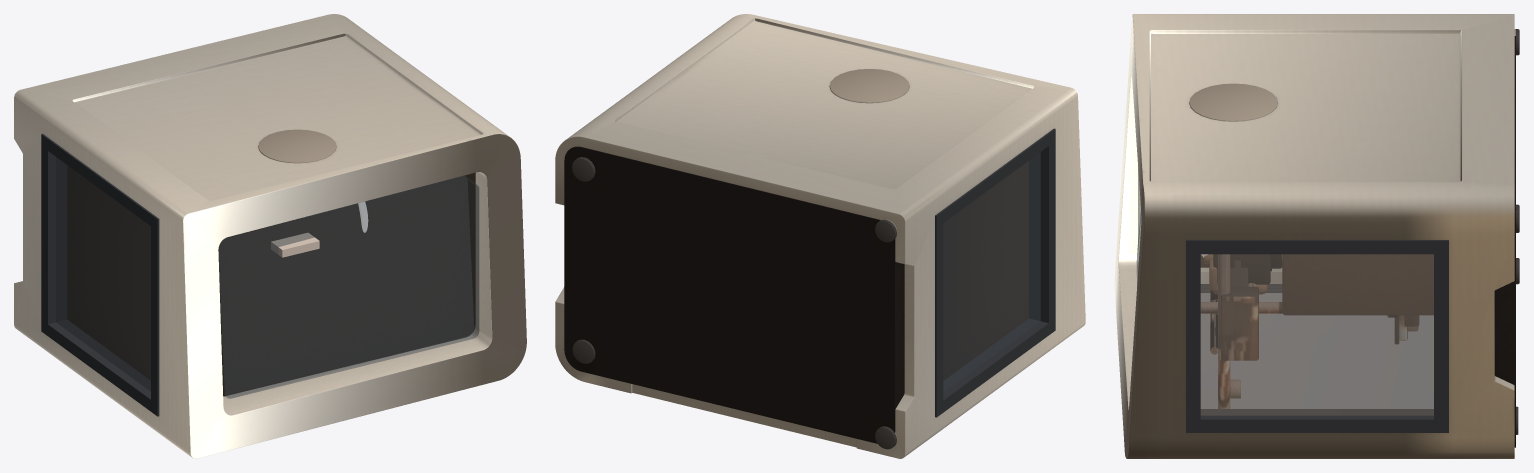
The model's file is deltrol_p2s_explorer_v36.glb.
The picture shows the model from 3 angles, left to right: view 1: azimuth 30°, elevation 25°; view 2: azimuth 150°, elevation 25°; view 3: azimuth 270°, elevation 25°; orthographic projection. The views are drawn at different scales.
Visible parts, largest first — view 1: unibody_shell, top_roof_glass, interior_ceiling_liner, left_glass_window, interior_left_back_baffle, left_window_gasket, rear_exhaust_shroud, upper_steel_rail_bar; view 2: unibody_shell, chassis_recessed_plinth, left_glass_window, interior_left_back_baffle, left_window_gasket, rear_exhaust_shroud; view 3: unibody_shell, right_glass_window, right_glass_sheen, front_glass_door, right_window_gasket, interior_rear_electronics_box, x_gantry_crossbeam, chassis_recessed_plinth, rear_exhaust_shroud, x_guide_front, toolhead_chassis.
Boxes of the visible parts, <box> form: unibody_shell: <box>14,14,526,458</box>; top_roof_glass: <box>218,176,479,398</box>; interior_ceiling_liner: <box>218,172,475,396</box>; left_glass_window: <box>56,157,150,391</box>; interior_left_back_baffle: <box>67,165,150,380</box>; left_window_gasket: <box>41,133,159,416</box>; rear_exhaust_shroud: <box>258,129,336,163</box>; upper_steel_rail_bar: <box>271,233,319,257</box>; unibody_shell: <box>555,14,1085,458</box>; chassis_recessed_plinth: <box>564,146,904,443</box>; left_glass_window: <box>943,152,1040,391</box>; interior_left_back_baffle: <box>943,161,1028,380</box>; left_window_gasket: <box>935,128,1055,417</box>; rear_exhaust_shroud: <box>829,69,909,103</box>; unibody_shell: <box>1114,14,1514,458</box>; right_glass_window: <box>1201,254,1433,414</box>; right_glass_sheen: <box>1201,255,1433,414</box>; front_glass_door: <box>1201,289,1433,408</box>; right_window_gasket: <box>1186,240,1448,432</box>; interior_rear_electronics_box: <box>1201,254,1433,314</box>; x_gantry_crossbeam: <box>1221,260,1258,360</box>; chassis_recessed_plinth: <box>1494,36,1515,447</box>; rear_exhaust_shroud: <box>1189,83,1277,121</box>; x_guide_front: <box>1201,254,1397,408</box>; toolhead_chassis: <box>1213,254,1270,284</box>.
Bounding box in the file's own units: 0.426 × 0.2955 × 0.3818.
19 materials, 14 textured.
